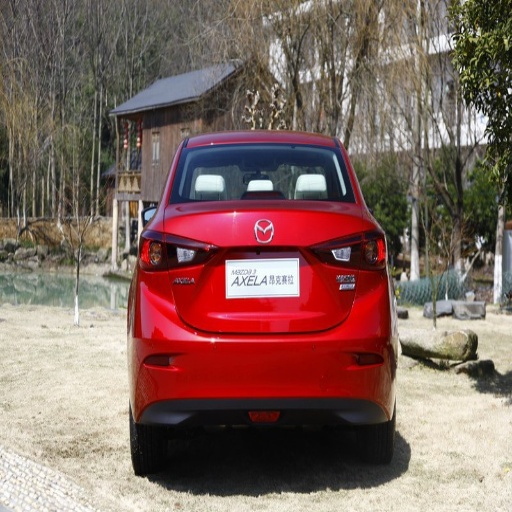_background_: (132, 273, 399, 423)
back_bumper: (170, 145, 352, 201)
back_left_door: (139, 228, 162, 270)
back_right_door: (366, 234, 387, 269)
right_mirror: (178, 240, 358, 332), (150, 223, 184, 282)
tailgate: (141, 205, 378, 331)
trunk: (132, 431, 161, 472), (359, 426, 392, 462)
